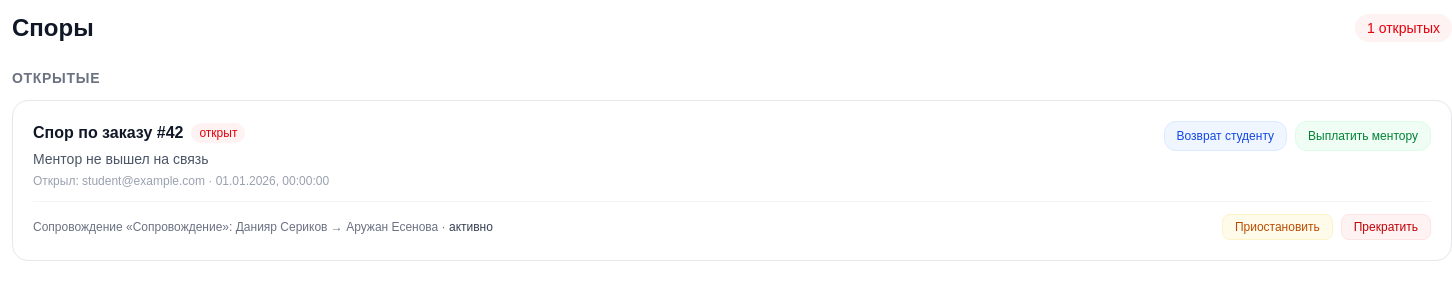
it: CRMDisputesPage › pauses the engagement after entering a reason
Step 1. Click the button "Приостановить" → click(1277, 227), box top-left (1222, 214), bottom-right (1333, 240)
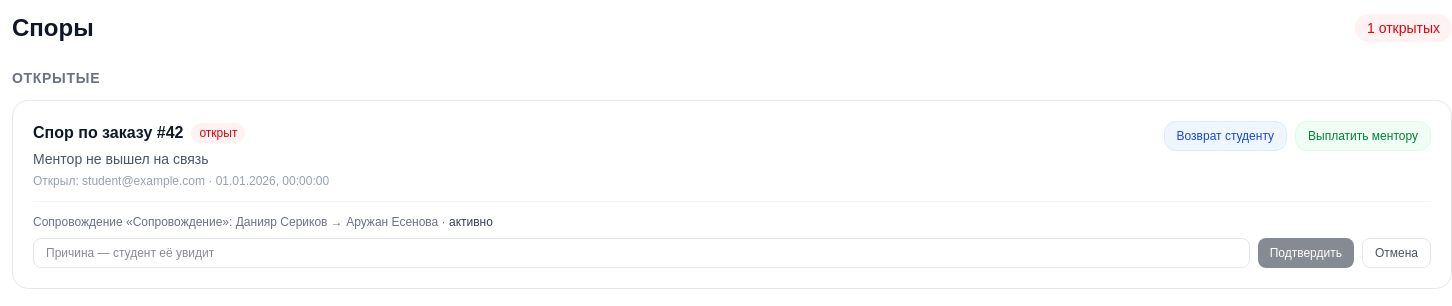
Step 2. Type "Разбираем спор" into the field with placeholder "Причина — студент её увидит" → (641, 253), box top-left (33, 238), bottom-right (1250, 268)
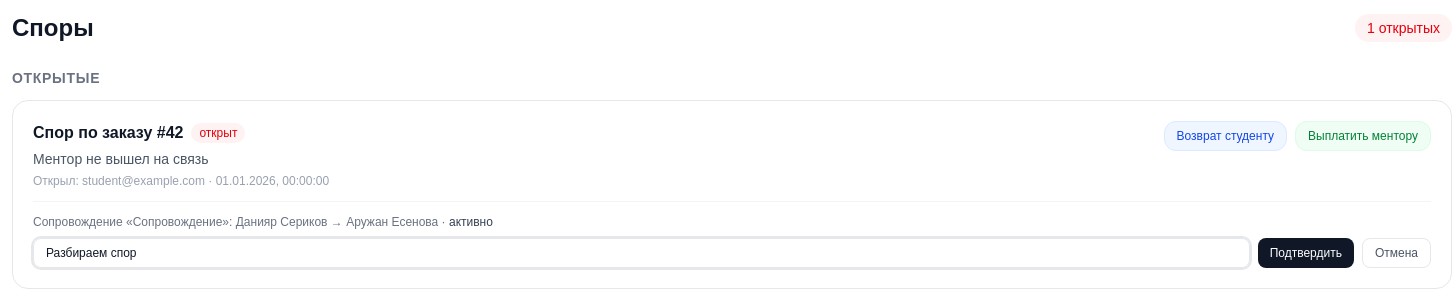
Step 3. Click the button "Подтвердить" → click(1306, 253), box top-left (1258, 238), bottom-right (1354, 268)
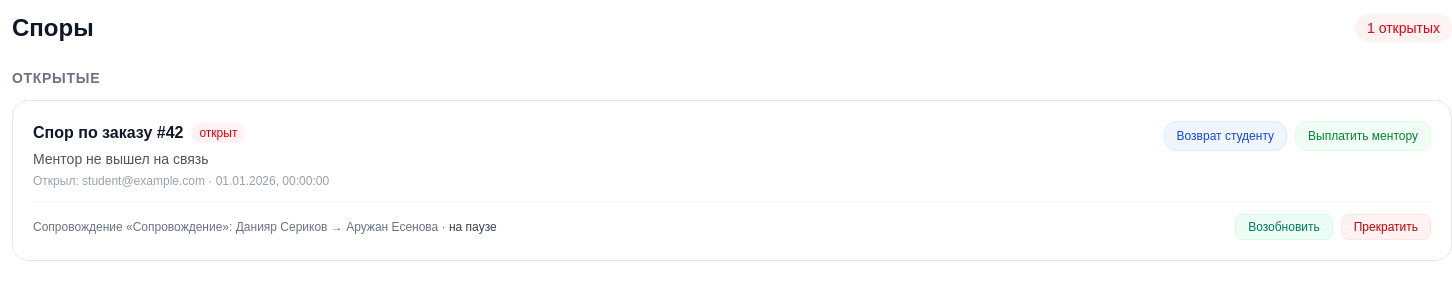
Check: the text "на паузе" is shown, box top-left (449, 220), bottom-right (497, 234)
